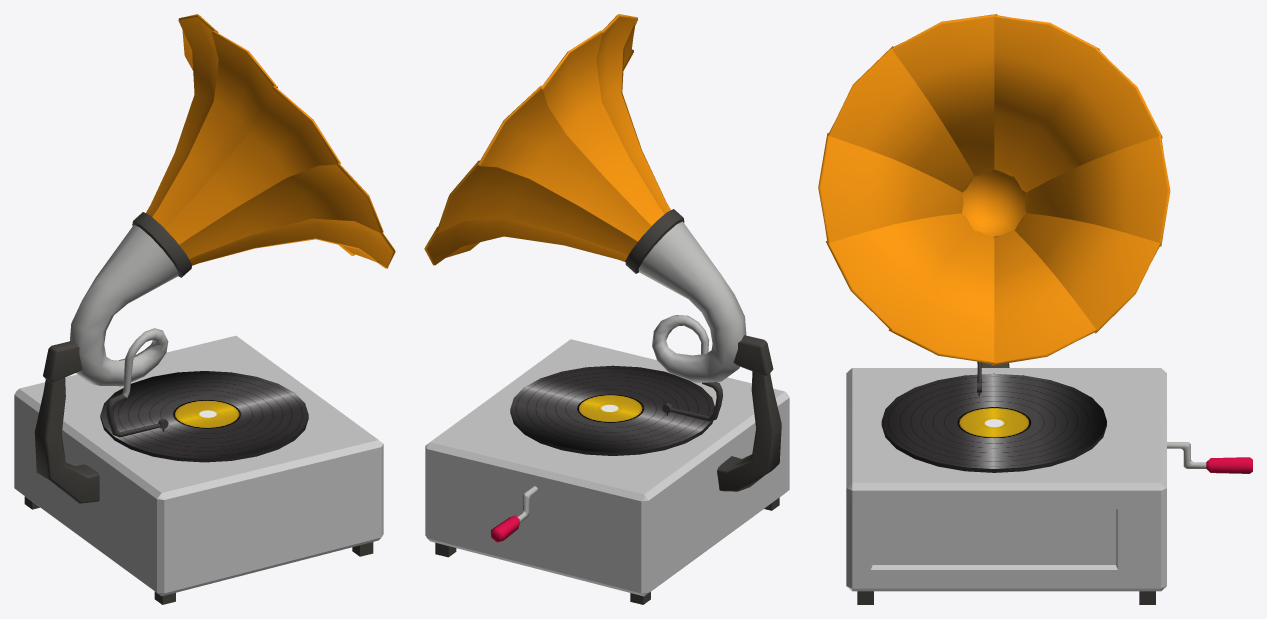
File: Music_Player.fbx
3 views of the same model, side by side, from view 1: azimuth 30°, elevation 25°; view 2: azimuth 150°, elevation 25°; view 3: azimuth 270°, elevation 25° (orthographic). The views are drawn at different scales.
Visible parts, largest first — view 1: polySurface49, polySurface48, Disk; view 2: polySurface49, polySurface48, Disk, Control; view 3: polySurface48, polySurface49, Disk, Control.
Boxes of the visible parts, box(x1,y1,x2,y2) form: polySurface49: box(14, 335, 383, 604); polySurface48: box(34, 14, 395, 503); Disk: box(100, 371, 308, 462); polySurface49: box(425, 339, 789, 604); polySurface48: box(424, 14, 781, 491); Disk: box(510, 365, 714, 455); Control: box(491, 486, 537, 542); polySurface48: box(818, 14, 1170, 396); polySurface49: box(846, 368, 1166, 604); Disk: box(881, 373, 1106, 472); Control: box(1167, 442, 1252, 473).
Size of the model in its own units: 88.44 by 133 by 96.77.
